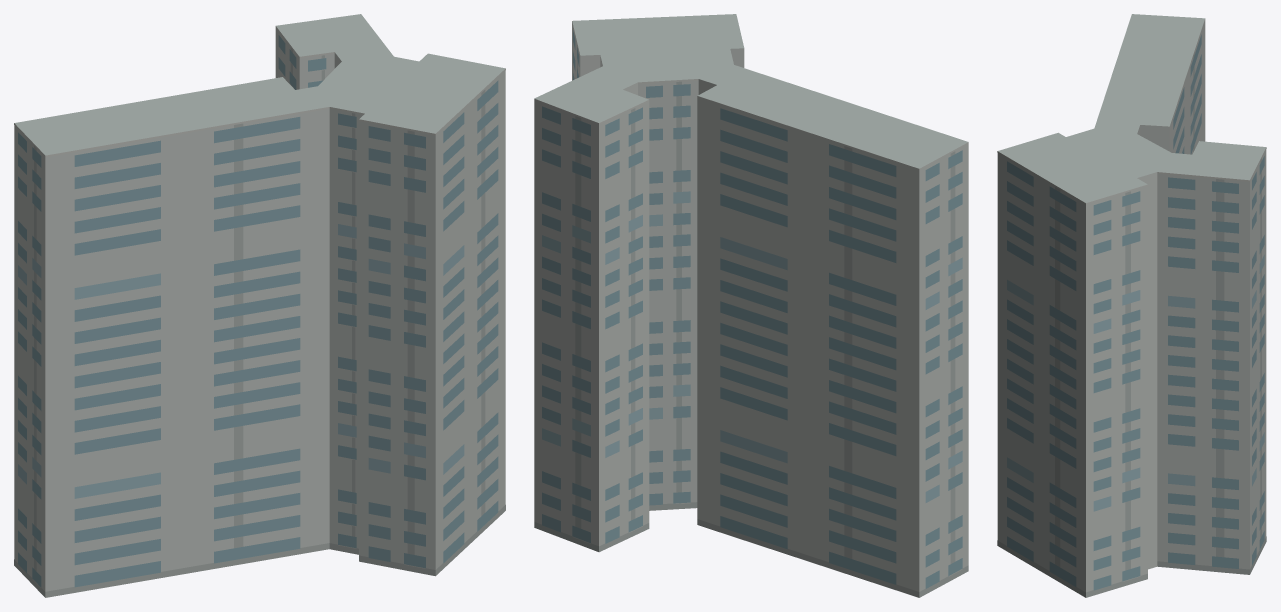
The model's file is residential-1494f3ca-3c22-4bc4-ba27-fea7686a3f74.glb.
The picture shows the model from 3 angles, left to right: view 1: azimuth 30°, elevation 25°; view 2: azimuth 150°, elevation 25°; view 3: azimuth 270°, elevation 25°; orthographic projection. The views are drawn at different scales.
Visible parts, largest first — view 1: residential-1494f3ca-3c22-4bc4-ba27-fea7686a3f74.tmp; view 2: residential-1494f3ca-3c22-4bc4-ba27-fea7686a3f74.tmp; view 3: residential-1494f3ca-3c22-4bc4-ba27-fea7686a3f74.tmp.
Part boxes in pixels (left/top/right/bottom): residential-1494f3ca-3c22-4bc4-ba27-fea7686a3f74.tmp: left=14, top=14, right=505, bottom=597; residential-1494f3ca-3c22-4bc4-ba27-fea7686a3f74.tmp: left=534, top=14, right=968, bottom=597; residential-1494f3ca-3c22-4bc4-ba27-fea7686a3f74.tmp: left=997, top=14, right=1266, bottom=597.
Size of the model in its own units: 59.65 by 58 by 35.83.
